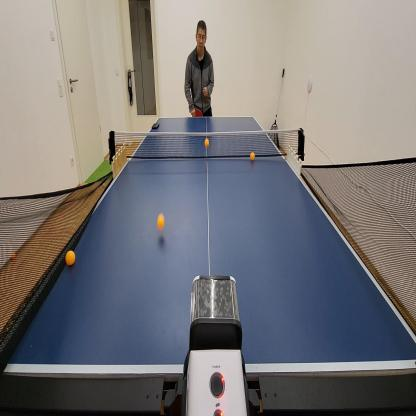Ball: (64, 248, 76, 268), (156, 210, 166, 232), (203, 135, 211, 149), (10, 250, 17, 262), (249, 150, 256, 162), (102, 182, 106, 190)
